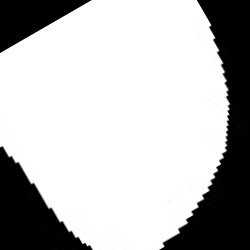spot: (1, 1, 230, 247)
